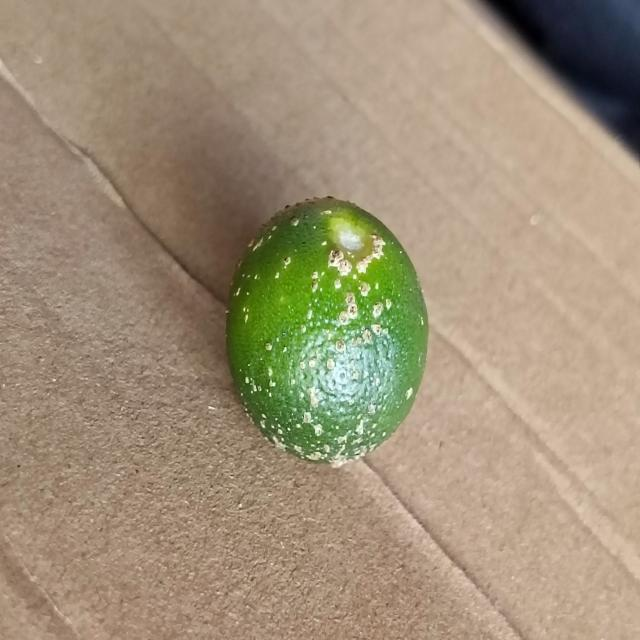scab: (220, 193, 434, 462)
